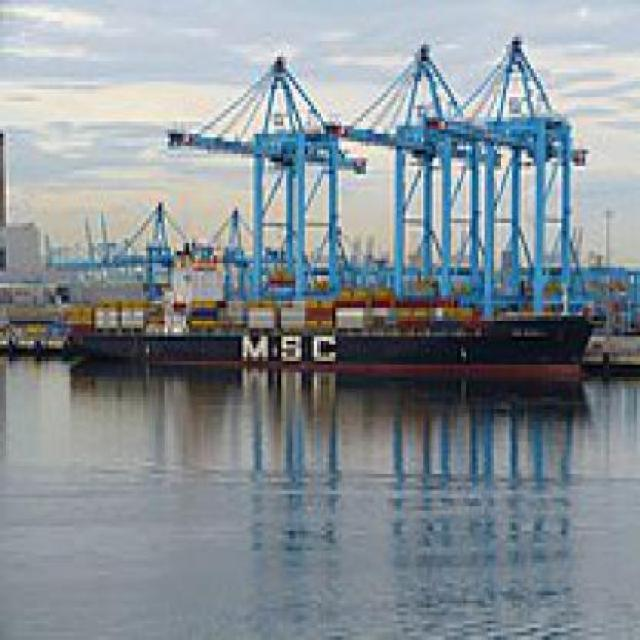container: (47, 236, 601, 402)
